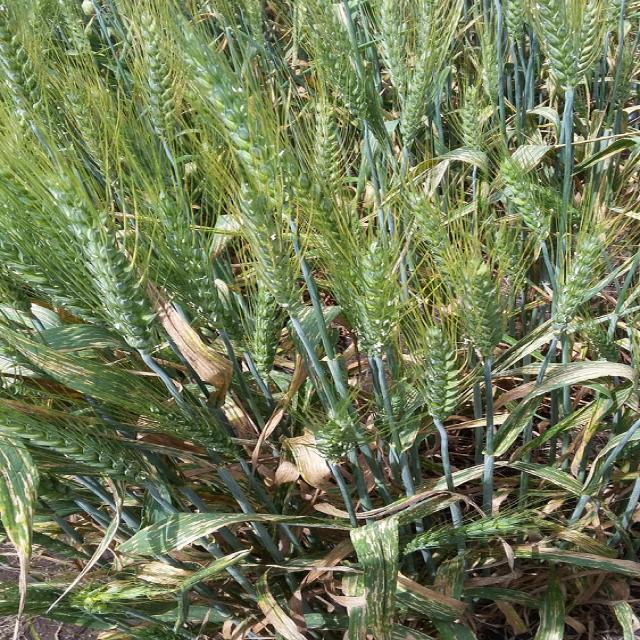wheat-septoria: (343, 495, 454, 640), (115, 513, 351, 556), (1, 324, 130, 395), (0, 434, 39, 561), (396, 583, 461, 622)
